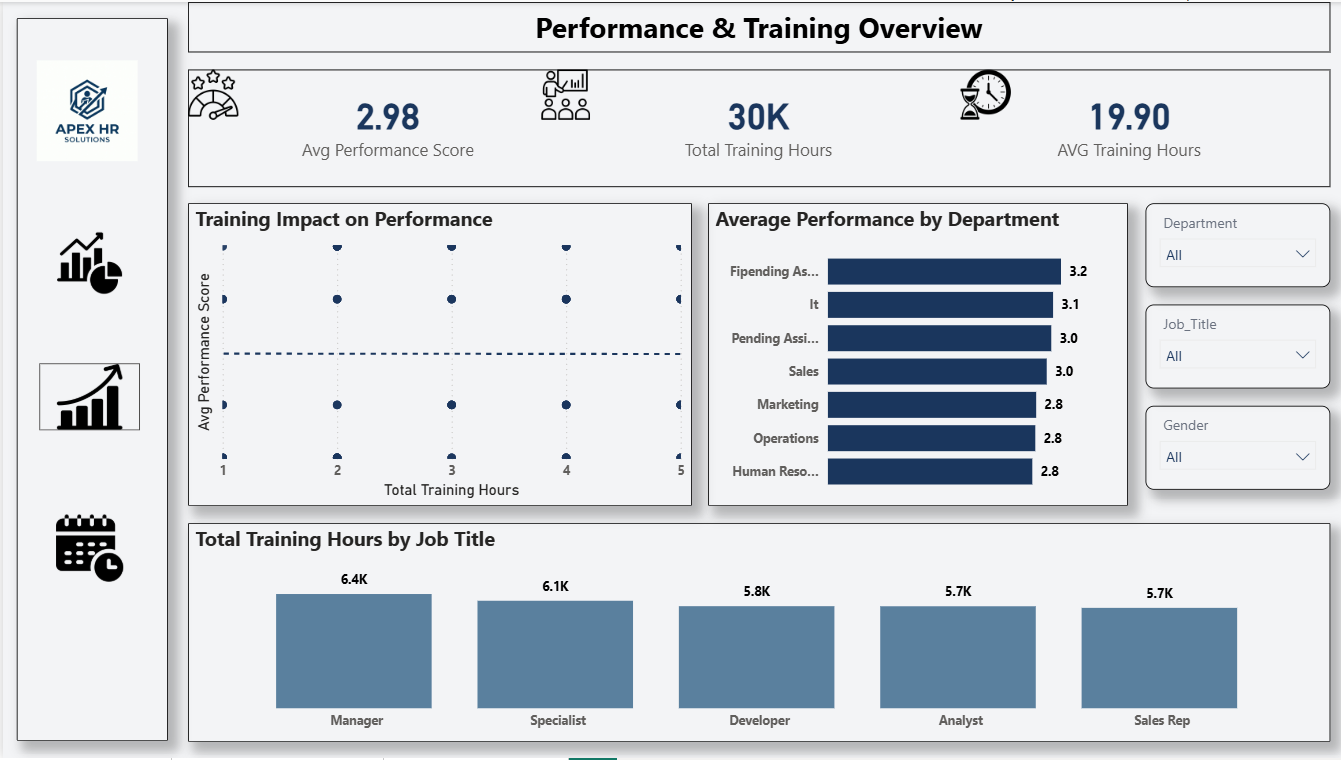

Layout of this report page (visuals, bound fields, positions):
{"tool":"powerbi","page":{"name":"Performance & Training","canvas":[1280,720],"ordinal":1},"visuals":[{"type":"textbox","box":[176,0,1088,48],"z":0},{"type":"shape","box":[13.4,16,144,688],"z":0,"group":"g2"},{"type":"group","id":"g1","title":"Group 1","box":[176,64,1088,112],"z":1000},{"type":"cardVisual","fields":{"Data":["_Measures.Avg Performance Score","_Measures.Total Training Hours","_Measures.AVG Training Hours"]},"box":[176,64,1088,112],"z":1000,"group":"g1"},{"type":"image","box":[35,217.2,96,64],"z":1000,"group":"g2"},{"type":"slicer","fields":{"Values":["Employees.Job_Title"]},"box":[1088,288,176,80],"z":2000},{"type":"image","box":[35,345.2,96,64],"z":2000,"group":"g2"},{"type":"slicer","fields":{"Values":["Departments.Department"]},"box":[1088,192,176,80],"z":3000},{"type":"image","box":[35,489.2,96,64],"z":3000,"group":"g2"},{"type":"slicer","fields":{"Values":["Employees.Gender"]},"box":[1088,384,176,80],"z":4000},{"type":"group","id":"g2","title":"Group 2","box":[13.4,16,144,688],"z":5000},{"type":"image","box":[32,48,96,112],"z":6000},{"type":"image","box":[176,64,48,48],"z":7000},{"type":"image","box":[512,64,48,48],"z":8000},{"type":"image","box":[912,64,48,48],"z":9000},{"type":"clusteredBarChart","title":"Average Performance by Department","fields":{"Category":["Departments.Department"],"Y":["_Measures.Avg Performance Score"]},"box":[672,192,400,288],"z":10000},{"type":"clusteredColumnChart","title":"Total Training Hours by Job Title","fields":{"Category":["Jobs.Job_Title"],"Y":["_Measures.Total Training Hours"]},"box":[176,496,1088,208],"z":11000},{"type":"scatterChart","title":"Training Impact on Performance","fields":{"Category":["Employees.First_Name"],"Y":["_Measures.Avg Performance Score"],"X":["_Measures.Total Training Hours"]},"box":[176,192,480,288],"z":12000}]}

Visuals, with their boxes on the page's 1280x720 design canvas (x1, y1, x2, y2). These are canvas units, not pixel positions in the 1341x760 screenshot, which may show the page scaled, cropped or inside an application window:
textbox: Rect(176, 0, 1264, 48)
shape: Rect(13, 16, 157, 704)
"Group 1" group: Rect(176, 64, 1264, 176)
cardVisual - _Measures.Avg Performance Score x _Measures.Total Training Hours: Rect(176, 64, 1264, 176)
image: Rect(35, 217, 131, 281)
slicer - Employees.Job_Title: Rect(1088, 288, 1264, 368)
image: Rect(35, 345, 131, 409)
slicer - Departments.Department: Rect(1088, 192, 1264, 272)
image: Rect(35, 489, 131, 553)
slicer - Employees.Gender: Rect(1088, 384, 1264, 464)
"Group 2" group: Rect(13, 16, 157, 704)
image: Rect(32, 48, 128, 160)
image: Rect(176, 64, 224, 112)
image: Rect(512, 64, 560, 112)
image: Rect(912, 64, 960, 112)
"Average Performance by Department" clusteredBarChart: Rect(672, 192, 1072, 480)
"Total Training Hours by Job Title" clusteredColumnChart: Rect(176, 496, 1264, 704)
"Training Impact on Performance" scatterChart: Rect(176, 192, 656, 480)
